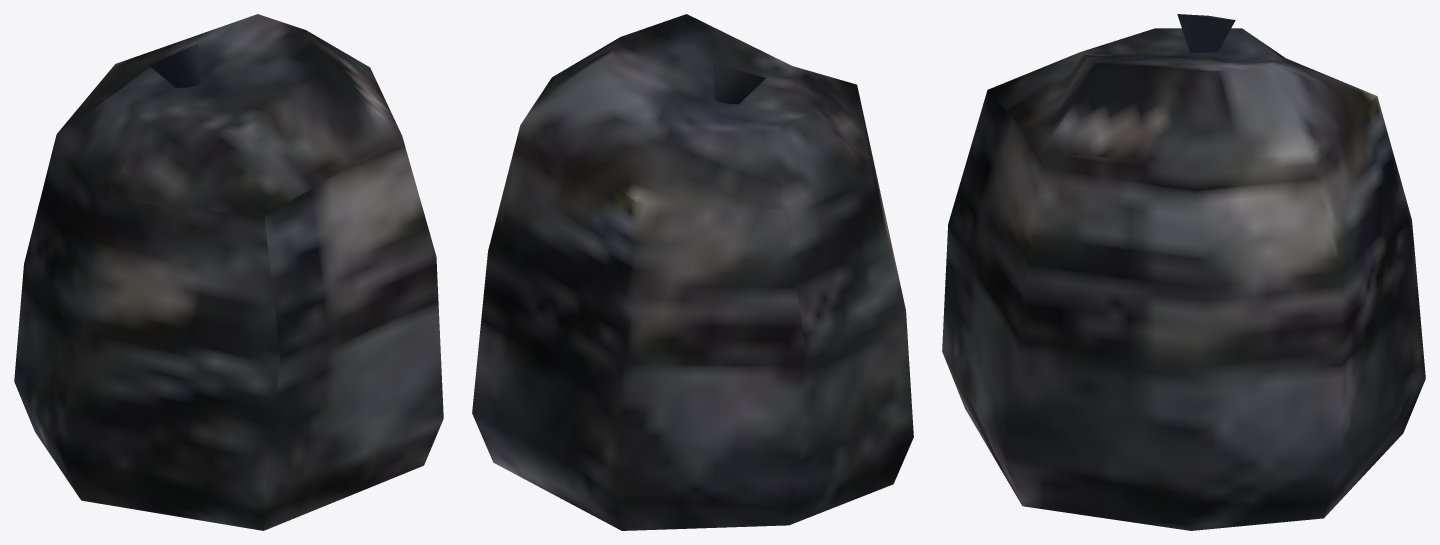
File: gas_trash_2.fbx
The picture shows the model from 3 angles, left to right: view 1: azimuth 30°, elevation 25°; view 2: azimuth 150°, elevation 25°; view 3: azimuth 270°, elevation 25°; orthographic projection. The views are drawn at different scales.
Parts seen in each view (by area): view 1: gas_trash_2; view 2: gas_trash_2; view 3: gas_trash_2.
Part boxes in pixels (x1,y1,x2,y2): gas_trash_2: [14, 14, 443, 530]; gas_trash_2: [472, 14, 913, 530]; gas_trash_2: [942, 14, 1425, 530].
Size of the model in its own units: 0.7566 by 0.7854 by 0.8079.
1 material, 1 textured.
